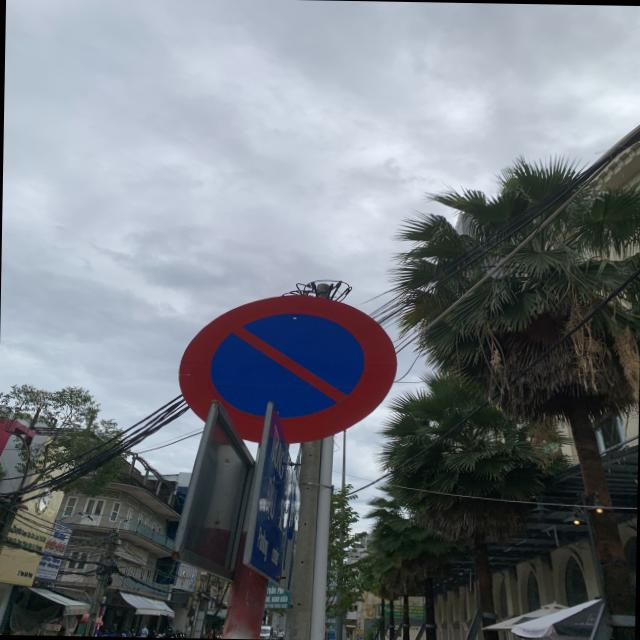Cam_Dau_Xe: (177, 294, 398, 448)
